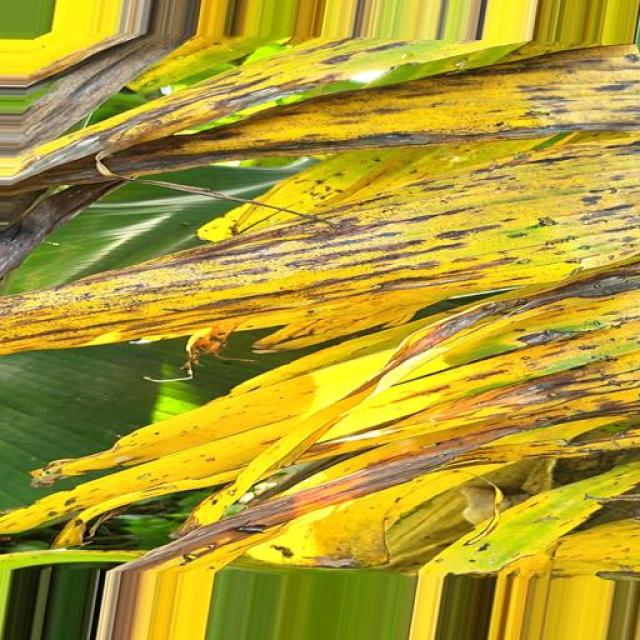Cordana: (0, 3, 640, 594)
